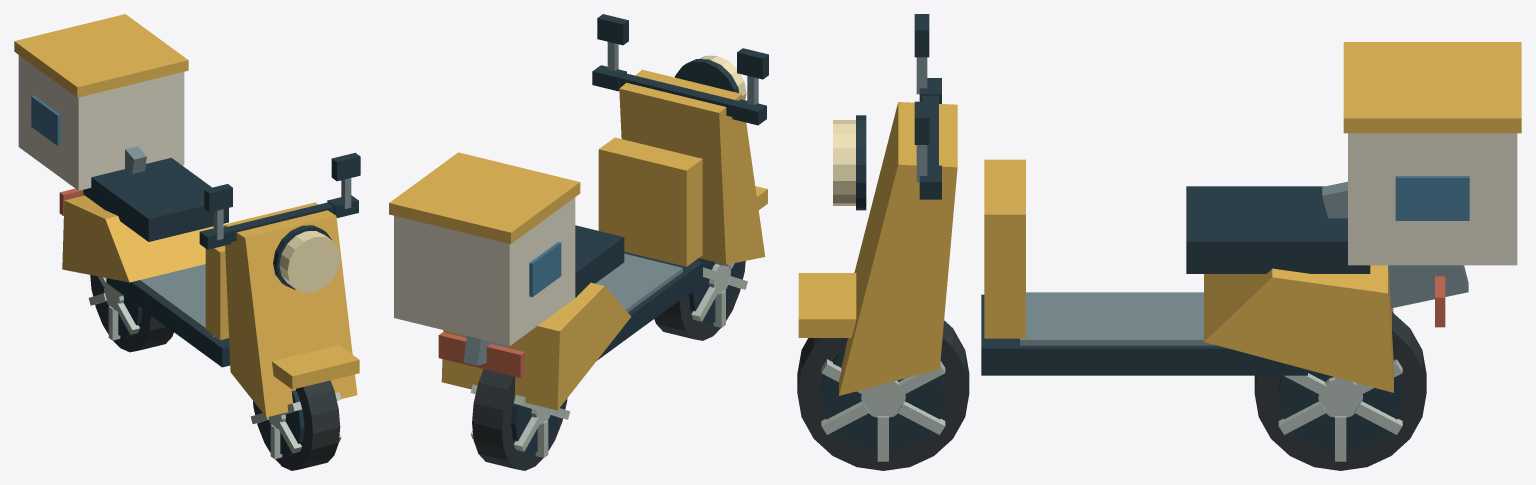
The model's file is DeliveryScooter.obj.
The picture shows the model from 3 angles, left to right: view 1: azimuth 30°, elevation 25°; view 2: azimuth 150°, elevation 25°; view 3: azimuth 270°, elevation 25°; orthographic projection. The views are drawn at different scales.
Parts seen in each view (by area): view 1: FrontApron, StorageBox, BoxLid, RearCover, Seat, TyreWheelFront, Headlight, Floorboard, FrontFender, FloorGrip, FootShield, TyreWheelRear (+10 smaller); view 2: StorageBox, FrontApron, FootShield, BoxLid, RearCover, TyreWheelRear, FloorGrip, Floorboard, Seat, RearLamp, TyreWheelFront, LampRim (+14 smaller); view 3: FrontApron, StorageBox, RearCover, BoxLid, Seat, FloorGrip, Floorboard, TyreWheelFront, FootShield, TyreWheelRear, RimWheelFront1, RimWheelRear1 (+8 smaller).
Boxes of the visible parts, box(x1,y1,x2,y2) form: FrontApron: box(224, 202, 357, 417); StorageBox: box(18, 55, 184, 190); BoxLid: box(14, 14, 188, 97); RearCover: box(62, 195, 213, 282); Seat: box(83, 157, 228, 241); TyreWheelFront: box(253, 380, 340, 470); Headlight: box(279, 231, 340, 292); Floorboard: box(106, 278, 230, 367); FrontFender: box(272, 345, 359, 389); FloorGrip: box(136, 264, 214, 337); FootShield: box(205, 245, 228, 340); TyreWheelRear: box(90, 275, 173, 352); StorageBox: box(394, 197, 575, 346); FrontApron: box(619, 69, 765, 264); FootShield: box(598, 137, 702, 266); BoxLid: box(389, 152, 580, 243); RearCover: box(441, 282, 631, 410); TyreWheelRear: box(472, 369, 567, 470); FloorGrip: box(595, 253, 682, 312); Floorboard: box(597, 251, 702, 360); Seat: box(575, 225, 624, 297); RearLamp: box(438, 332, 524, 377); TyreWheelFront: box(654, 261, 745, 340); LampRim: box(675, 59, 739, 92); FrontApron: box(839, 102, 957, 395); StorageBox: box(1348, 133, 1517, 265); RearCover: box(1204, 265, 1393, 392); BoxLid: box(1343, 42, 1521, 133); Seat: box(1186, 186, 1370, 273); FloorGrip: box(1020, 292, 1216, 345); Floorboard: box(981, 294, 1307, 375); TyreWheelFront: box(797, 320, 969, 470); FootShield: box(984, 159, 1025, 338); TyreWheelRear: box(1254, 312, 1426, 470); RimWheelFront1: box(820, 349, 946, 451); RimWheelRear1: box(1277, 370, 1403, 451).
Bounding box in the file's own units: 0.83 × 1.47 × 2.44.
